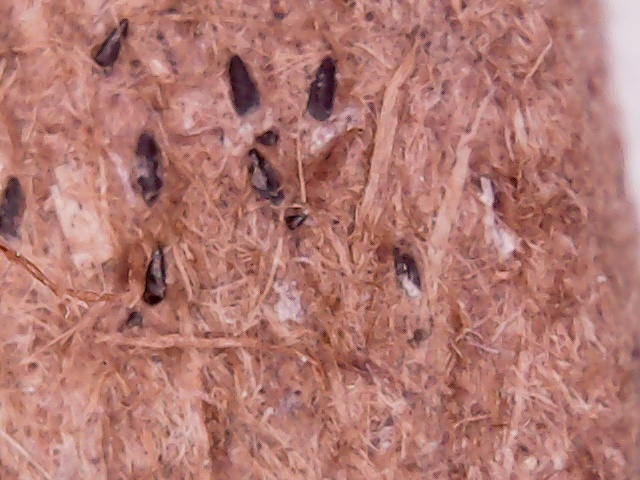full: (128, 128, 174, 204), (221, 49, 270, 115), (244, 148, 291, 213), (302, 55, 345, 123), (135, 239, 174, 313), (92, 15, 136, 71)
